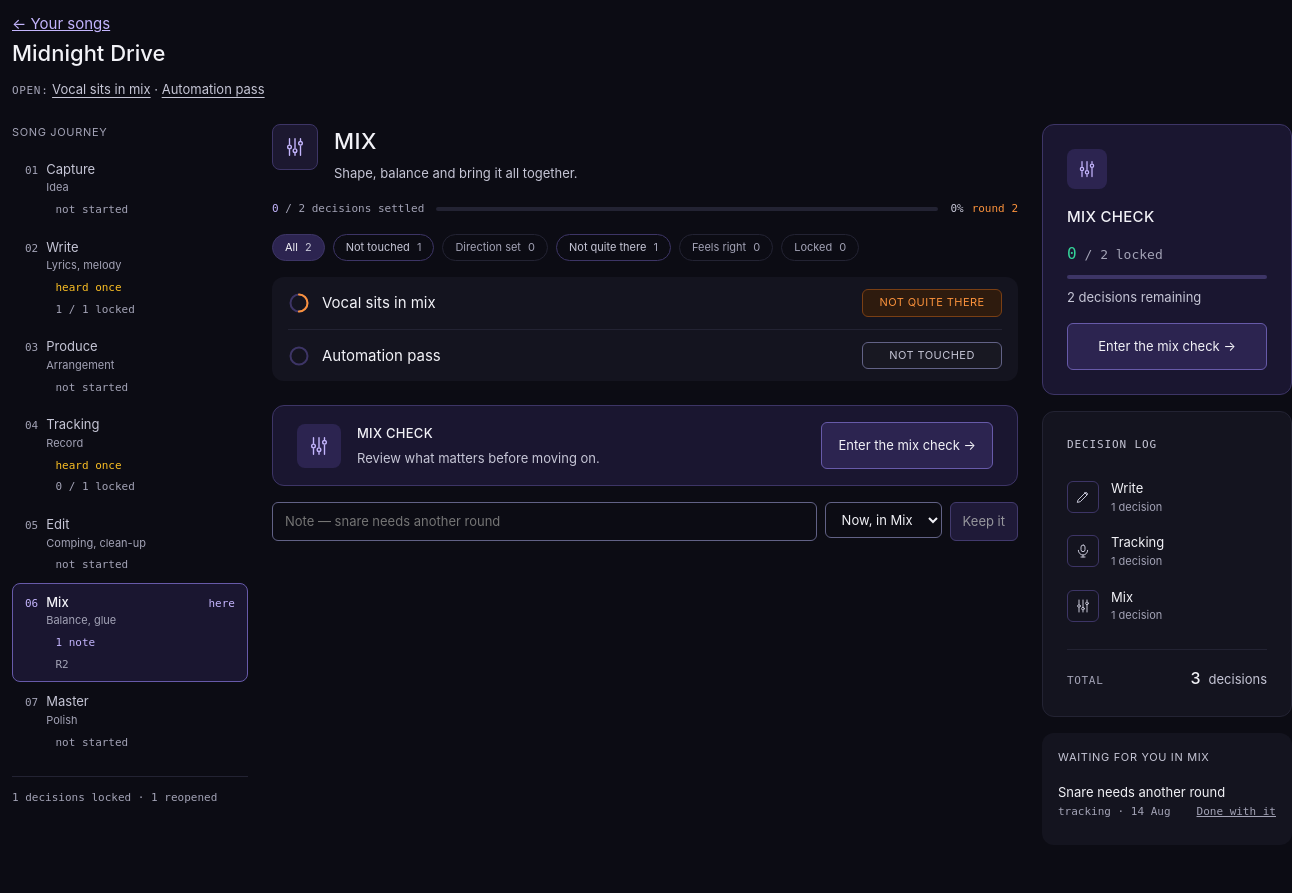
Test: the judgement picker › opens only on a click, and shows every definition
The width and height of the screenshot is (1292, 893).
Expected: the heading "Mix" is shown, [334,128,377,154]
Click the button with aria-label "Vocal sits in mix: Not quite there" at (932, 303), box [862,289,1002,317]
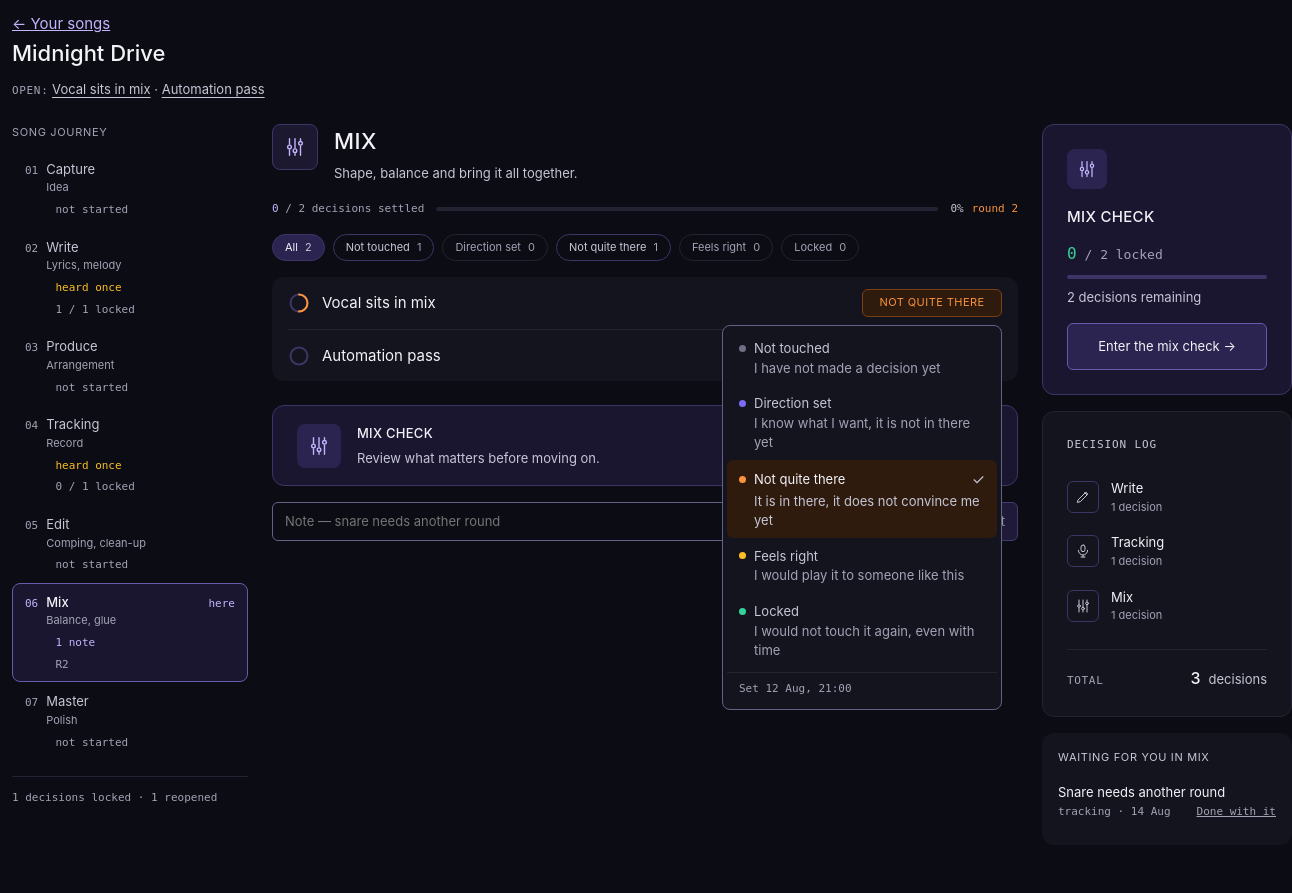
Now the text "I would play it to someone like this" is shown, box [754,566,985,585]
Now the text "I would not touch it again, even with time" is shown, box [754,622,985,660]
